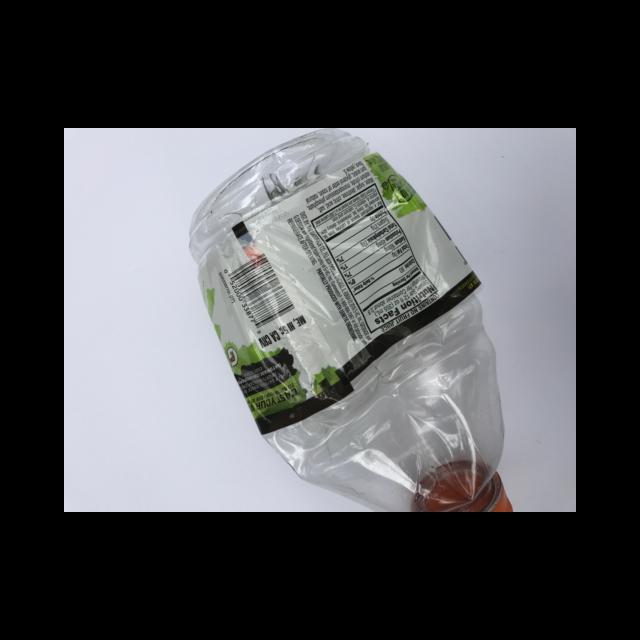plastic: (188, 128, 511, 511), (197, 152, 481, 435), (411, 458, 513, 511)
